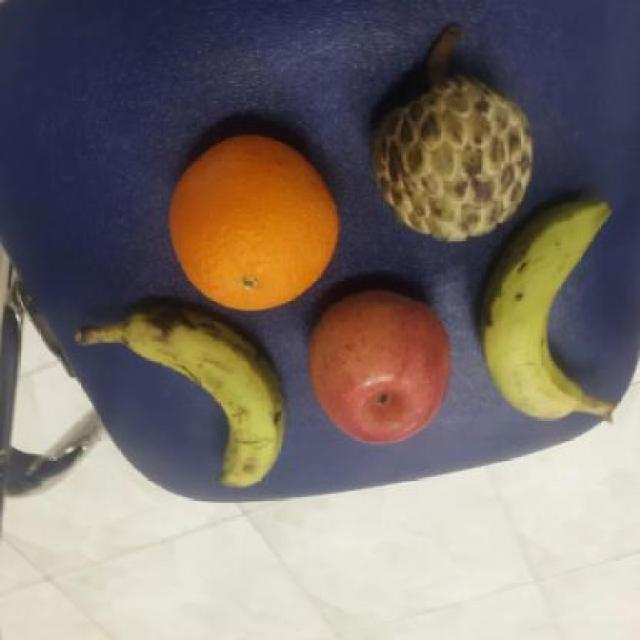apple: (302, 285, 458, 447)
banana: (121, 296, 294, 492), (478, 190, 608, 422)
sugar apple: (363, 74, 534, 249)
